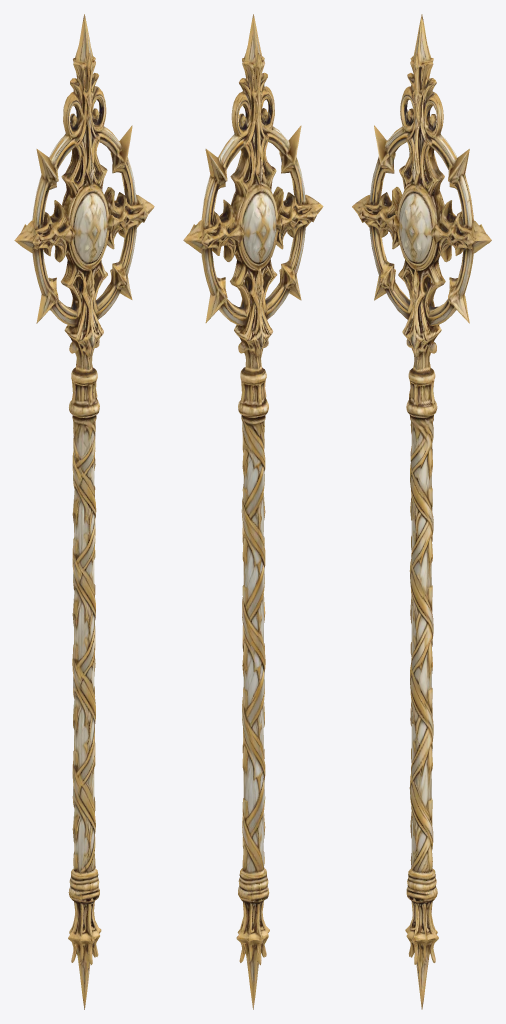
File: staff-white.glb
The picture shows the model from 3 angles, left to right: view 1: azimuth 30°, elevation 25°; view 2: azimuth 210°, elevation 25°; view 3: azimuth 330°, elevation 25°; orthographic projection.
Parts seen in each view (by area): view 1: Staff; view 2: Staff; view 3: Staff.
Boxes of the visible parts, left/top/right/bottom form: Staff: left=14, top=14, right=154, bottom=1009; Staff: left=183, top=14, right=323, bottom=1009; Staff: left=352, top=14, right=491, bottom=1009.
Bounding box in the file's own units: 0.2721 × 1.85 × 0.0751.
Materials: 1 (1 with a texture image).
